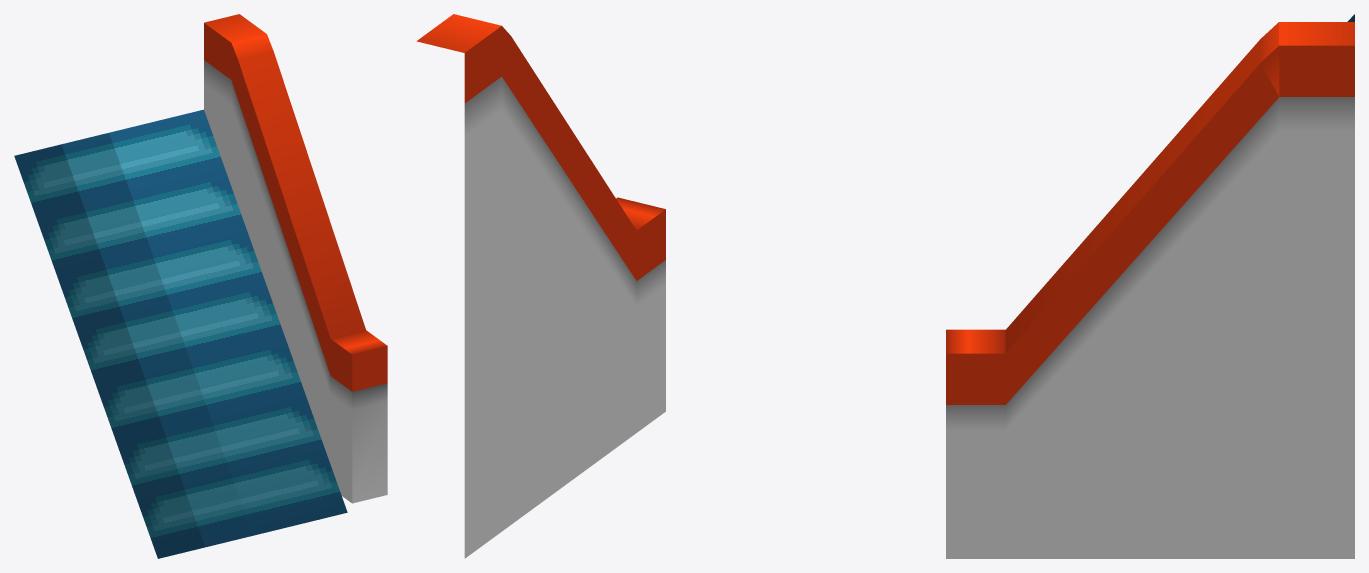
3 views of the same model, side by side, from view 1: azimuth 30°, elevation 25°; view 2: azimuth 150°, elevation 25°; view 3: azimuth 270°, elevation 25° (orthographic). The views are drawn at different scales.
Bounding box in the file's own units: 2.38 × 3.88 × 2.71.
Materials: 4 (4 with a texture image).
